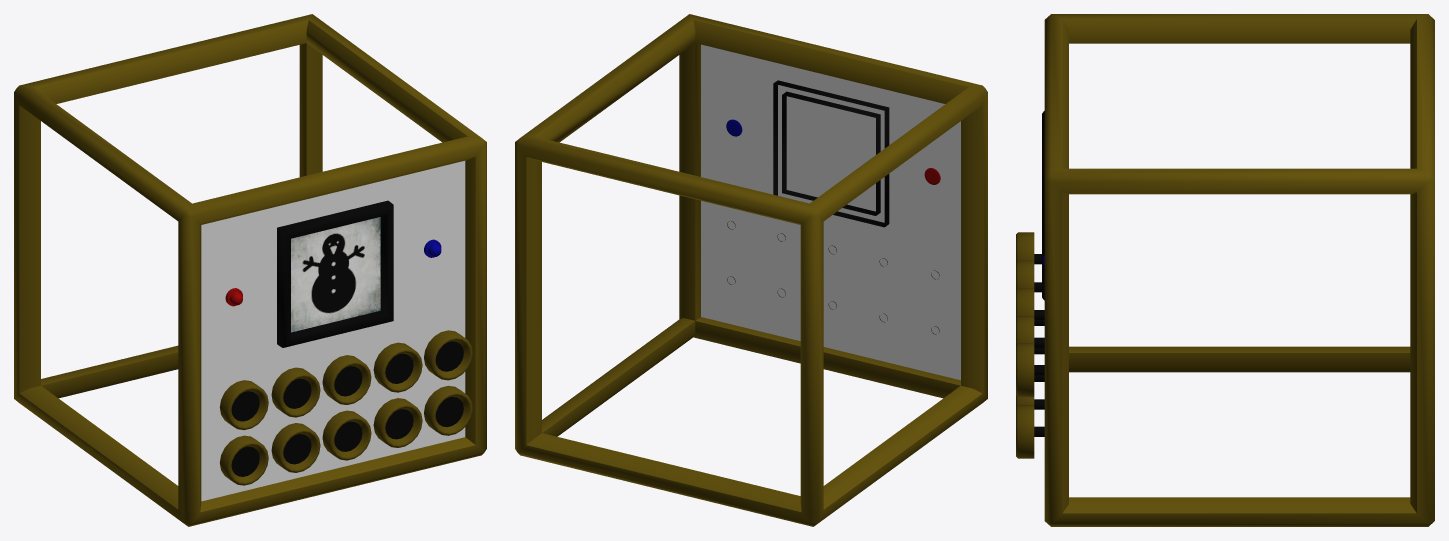
The model's file is Cipher_P1_01.fbx.
3 renders of one model, left to right at view 1: azimuth 30°, elevation 25°; view 2: azimuth 150°, elevation 25°; view 3: azimuth 270°, elevation 25°, orthographic. The views are drawn at different scales.
Parts seen in each view (by area): view 1: Box067, Display Plane001, Plane005, Box068, Keyboard Button003, Keyboard Button007, Keyboard Button005, Keyboard Button006, Keyboard Button004, Keyboard Button, Keyboard Button009, Keyboard Button001 (+2 smaller); view 2: Box067, Display Plane001, Box068; view 3: Box067, Keyboard Button, Keyboard Button005, Keyboard Button006, Keyboard Button007, Keyboard Button009, Keyboard Button008, Box068.
Boxes of the visible parts, left/top/right/bottom form: Box067: left=14, top=14, right=486, bottom=526; Display Plane001: left=201, top=161, right=465, bottom=501; Plane005: left=291, top=217, right=380, bottom=332; Box068: left=277, top=200, right=393, bottom=347; Keyboard Button003: left=271, top=423, right=320, bottom=472; Keyboard Button007: left=322, top=355, right=371, bottom=404; Keyboard Button005: left=424, top=330, right=472, bottom=380; Keyboard Button006: left=373, top=342, right=422, bottom=392; Keyboard Button004: left=220, top=435, right=268, bottom=485; Keyboard Button: left=424, top=385, right=472, bottom=435; Keyboard Button009: left=219, top=380, right=268, bottom=430; Keyboard Button001: left=373, top=398, right=422, bottom=447; Box067: left=515, top=14, right=987, bottom=526; Display Plane001: left=701, top=44, right=960, bottom=380; Box068: left=773, top=80, right=889, bottom=227; Box067: left=1044, top=14, right=1434, bottom=526; Keyboard Button: left=1016, top=405, right=1044, bottom=458; Keyboard Button005: left=1016, top=343, right=1044, bottom=396; Keyboard Button006: left=1016, top=316, right=1044, bottom=347; Keyboard Button007: left=1016, top=288, right=1044, bottom=319; Keyboard Button009: left=1016, top=232, right=1041, bottom=264; Keyboard Button008: left=1016, top=260, right=1041, bottom=292; Box068: left=1042, top=111, right=1044, bottom=300.
Bounding box in the file's own units: 126 × 126 × 135.
Materials: 6 (1 with a texture image).
